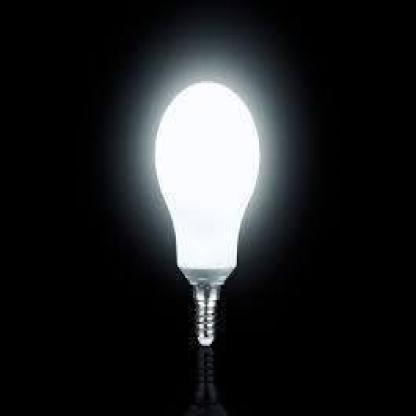other: (142, 58, 274, 296)
